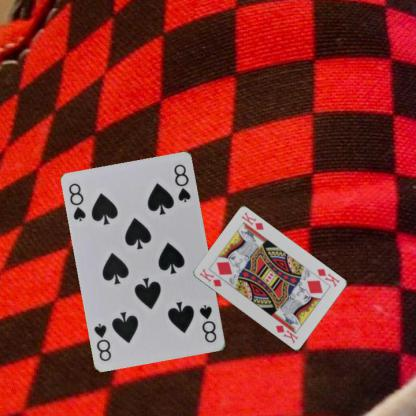8s: (66, 181, 88, 222), (197, 302, 218, 344)
Kd: (196, 266, 223, 288), (314, 266, 341, 288)
